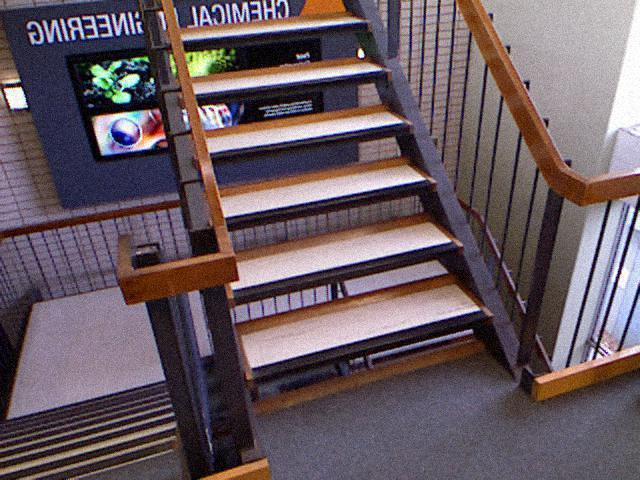Escaleras: (160, 0, 532, 392), (0, 368, 233, 479)
